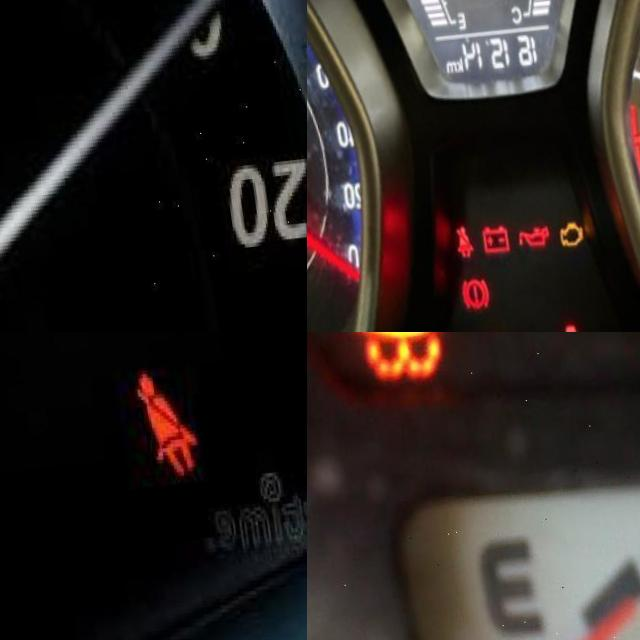Seat Belt: (125, 375, 194, 483)
Washer Fluid: (334, 332, 450, 385)
